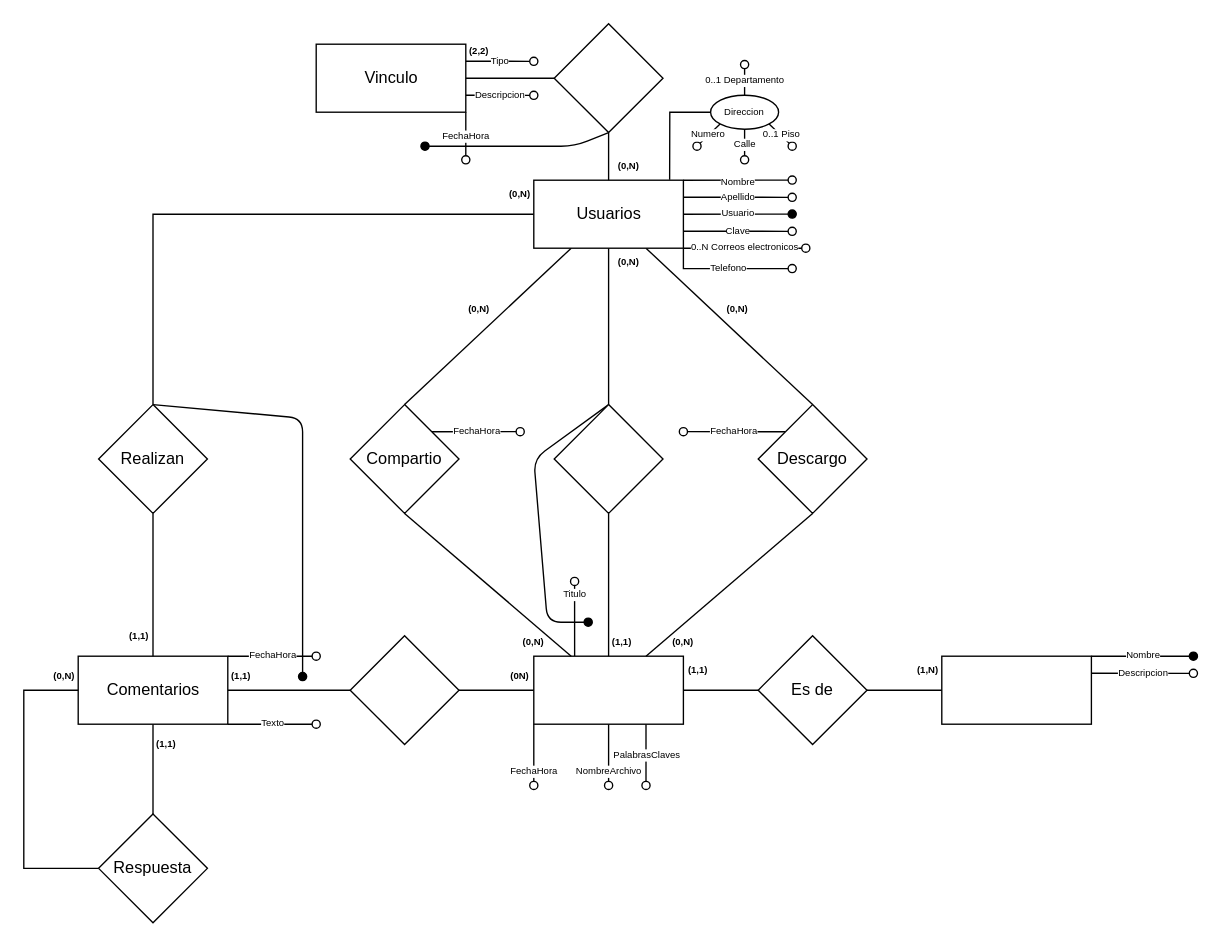
Some shapes in this 1228 by 947 pixel diagram are drawn without their labels. Here are the shapes that lost their labels. From the top down, the centre of each, then its label:
At point 608,77: "Se vinculan".
At point 608,458: "Subio".
At point 404,689: "Tienen".
At point 607,689: "Publicaciones".
At point 1015,689: "Tematicas".
